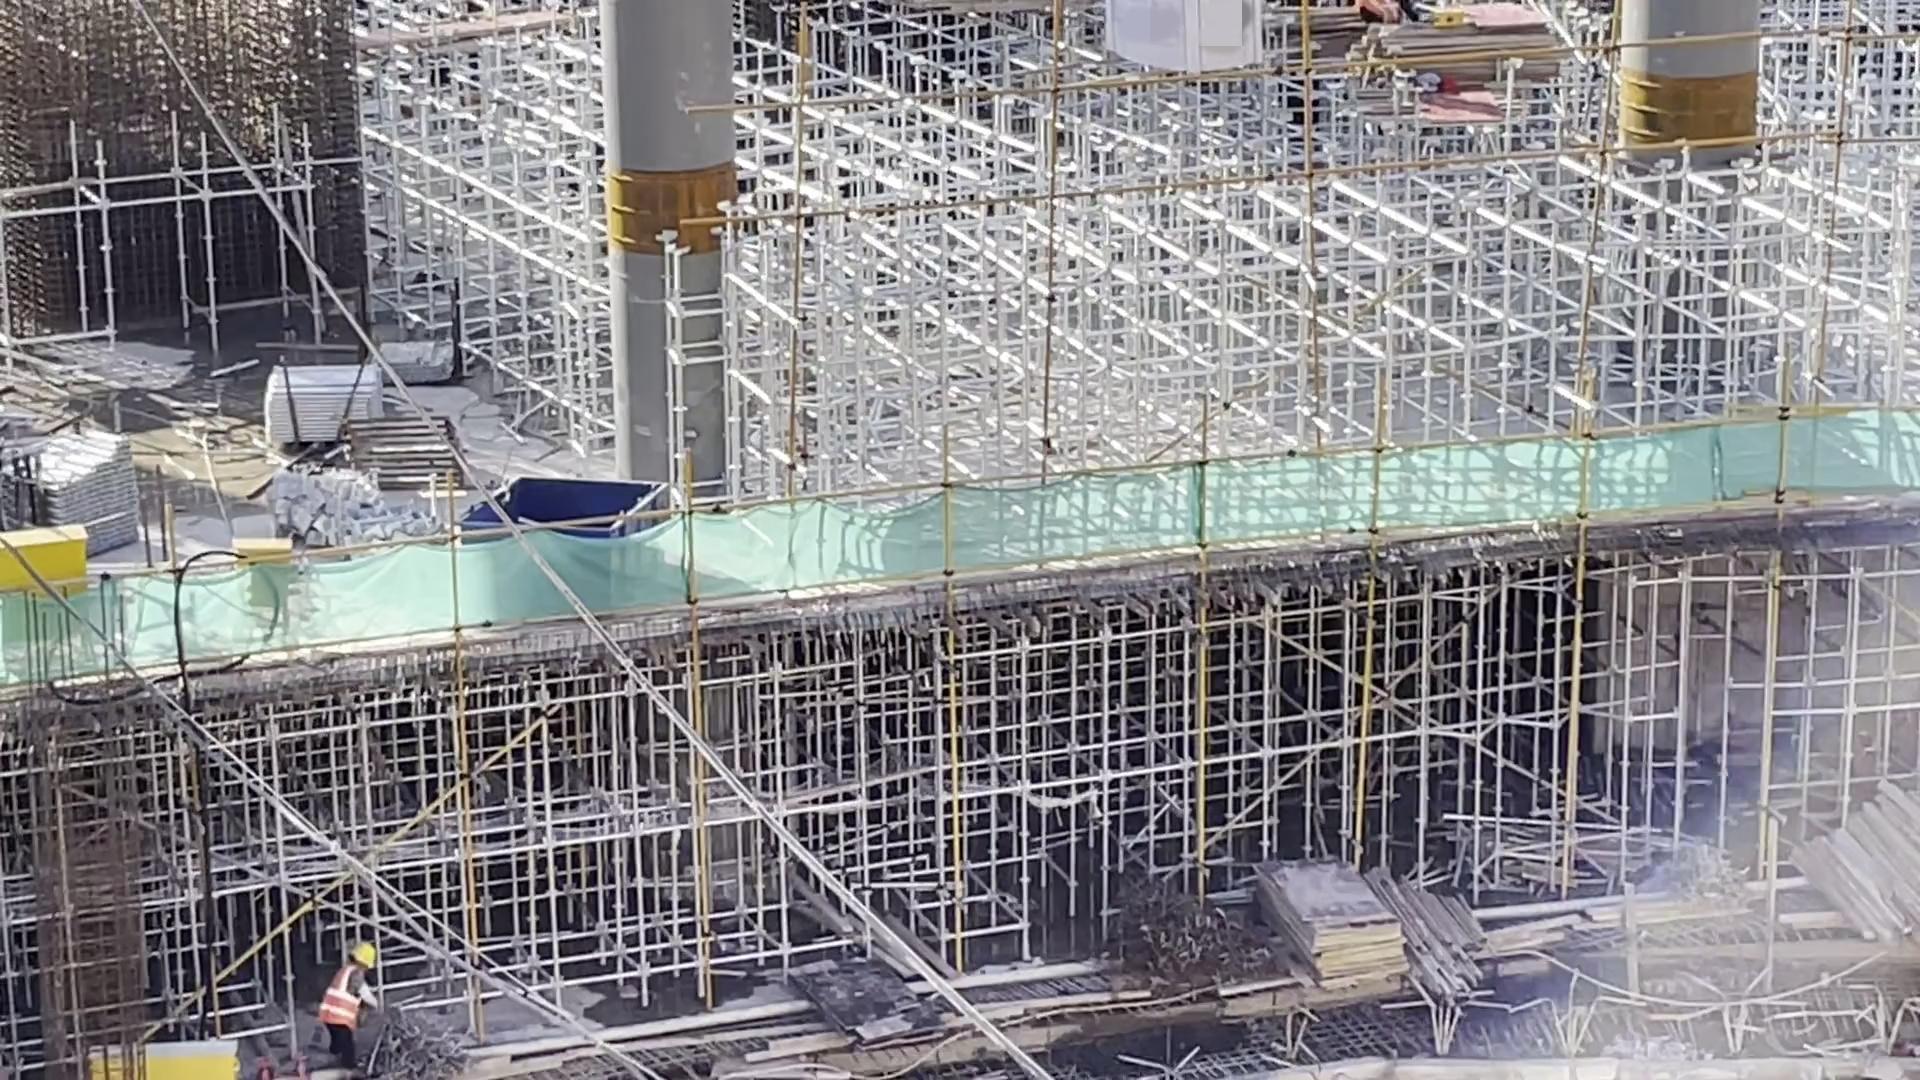board: (1253, 842, 1406, 974), (1404, 1, 1573, 96)
ebox: (6, 477, 91, 642), (83, 1036, 218, 1080), (229, 537, 296, 607)
helmet: (359, 949, 388, 966)
hopper: (466, 462, 668, 594)
person: (321, 935, 376, 1063), (1344, 1, 1424, 29)
scaffold: (19, 429, 129, 544), (264, 367, 373, 431)
vest: (319, 969, 366, 1032), (1367, 1, 1393, 20)
wood: (1814, 779, 1920, 905)
